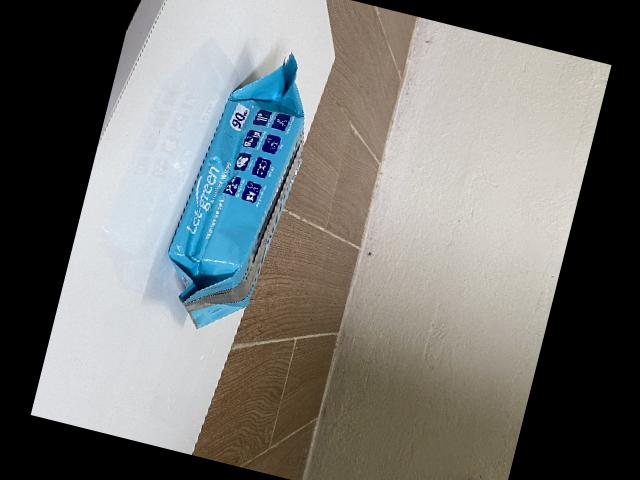Let-green_alcohol_wipes: (166, 51, 303, 328)
